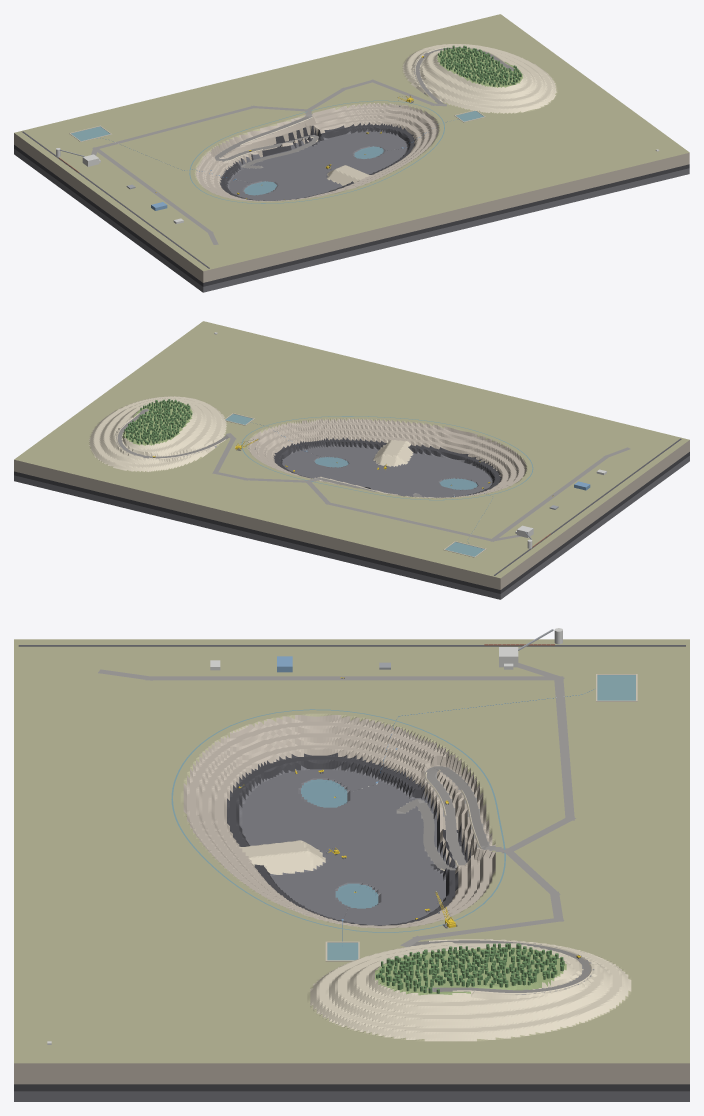
File: mine-layout.glb
The picture shows the model from 3 angles, top to bottom: view 1: azimuth 30°, elevation 25°; view 2: azimuth 150°, elevation 25°; view 3: azimuth 270°, elevation 25°; orthographic projection. The views are drawn at different scales.
Parts seen in each view (by area): view 1: original_ground, overburden_benches, coal_floor, ob_dump, coal_seam, plantation, surface_roads, road_running_surface, reclaimed_top, garland_drain, sumps, ob_spur; view 2: original_ground, overburden_benches, coal_floor, ob_dump, coal_seam, plantation, surface_roads, reclaimed_top, ob_spur, garland_drain, road_running_surface, sumps; view 3: original_ground, overburden_benches, coal_floor, ob_dump, coal_seam, surface_roads, plantation, road_running_surface, reclaimed_top, ob_spur, sumps, garland_drain (+3 smaller).
Part boxes in pixels (x1,y1,x2,y2): original_ground: (14, 14, 689, 271); overburden_benches: (14, 103, 689, 282); coal_floor: (14, 128, 689, 292); ob_dump: (402, 44, 556, 113); coal_seam: (14, 122, 689, 286); plantation: (438, 45, 521, 86); surface_roads: (91, 79, 446, 244); road_running_surface: (214, 47, 513, 168); reclaimed_top: (437, 48, 523, 87); garland_drain: (189, 100, 444, 203); sumps: (244, 146, 383, 195); ob_spur: (327, 165, 370, 185); original_ground: (14, 321, 689, 578); overburden_benches: (14, 418, 689, 589); coal_floor: (14, 443, 689, 599); ob_dump: (89, 396, 226, 471); coal_seam: (14, 437, 689, 593); plantation: (124, 399, 192, 444); surface_roads: (212, 433, 630, 541); reclaimed_top: (122, 401, 192, 445); ob_spur: (373, 440, 413, 466); garland_drain: (241, 416, 533, 500); road_running_surface: (117, 409, 431, 498); sumps: (314, 457, 477, 489); original_ground: (14, 639, 689, 1063); overburden_benches: (14, 715, 689, 1084); coal_floor: (14, 765, 689, 1101); ob_dump: (310, 939, 631, 1041); coal_seam: (14, 753, 689, 1091); surface_roads: (98, 663, 575, 947); plantation: (376, 943, 564, 993); road_running_surface: (396, 766, 590, 992); reclaimed_top: (375, 947, 566, 995); ob_spur: (239, 840, 325, 874); sumps: (301, 779, 378, 908); garland_drain: (171, 709, 505, 932).
Size of the model in its own units: 2600 by 185 by 1752.
